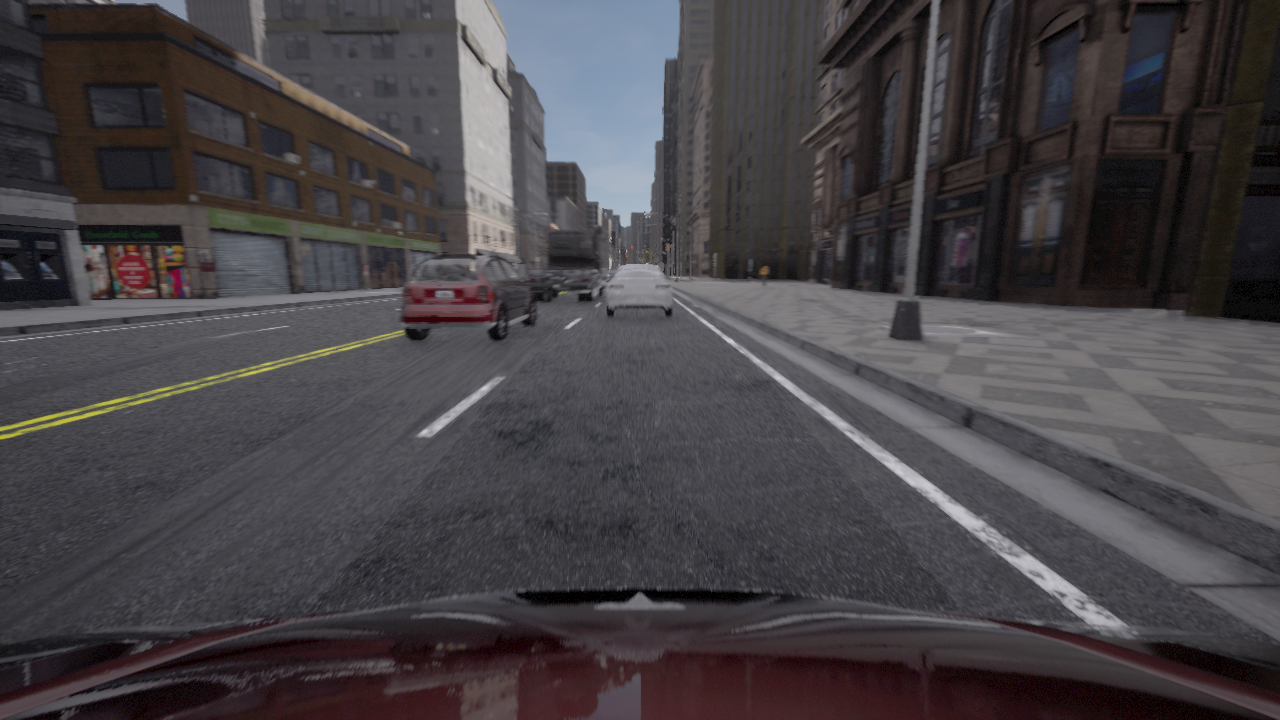cyclist: (0, 588, 1279, 719), (401, 255, 535, 340), (525, 227, 610, 301), (606, 265, 672, 316), (606, 271, 617, 282)
pedestrian: (760, 262, 768, 287)
